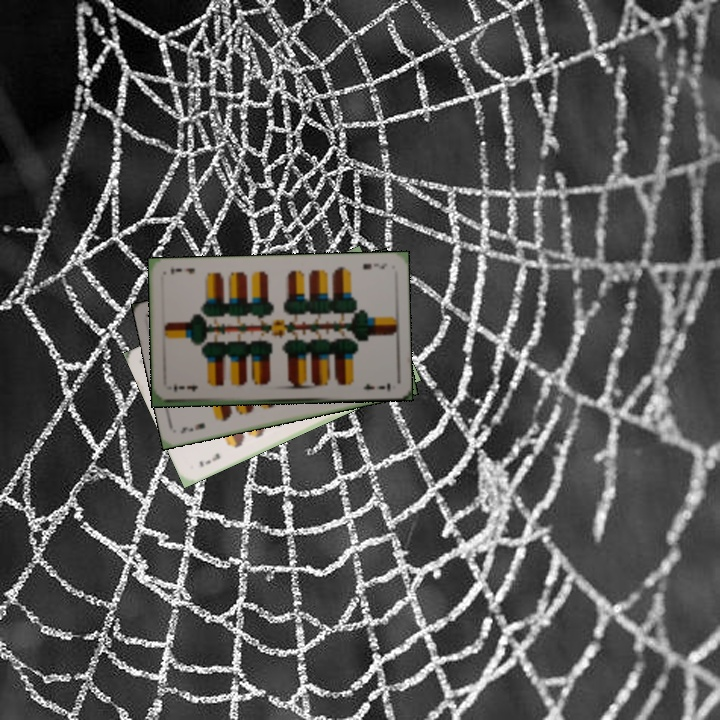E7: (195, 449, 223, 469), (176, 419, 208, 436), (170, 381, 200, 395), (358, 259, 390, 272)
